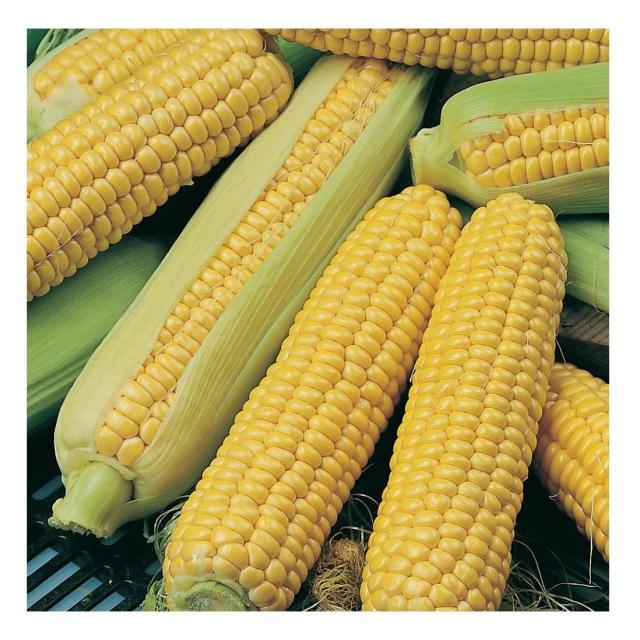corn: (150, 162, 461, 604), (342, 193, 584, 607), (29, 34, 308, 323)
